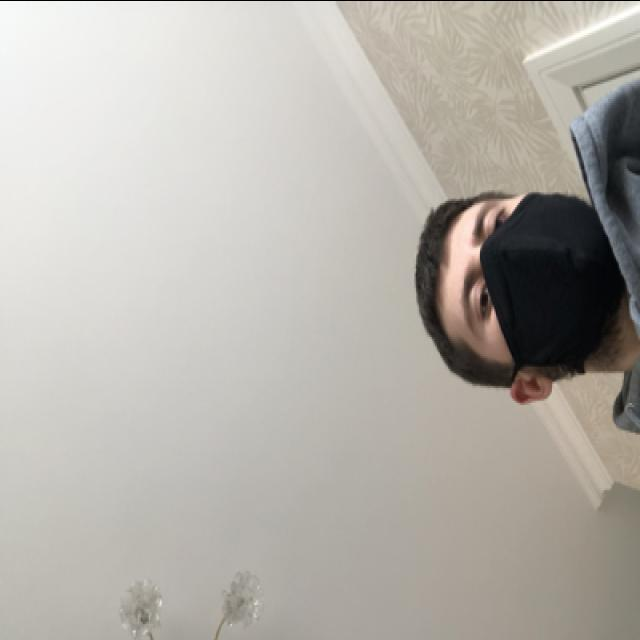with_mask: (452, 194, 618, 368)
